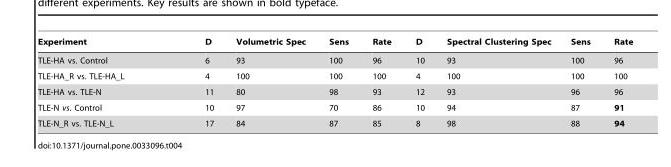table: (37, 37, 632, 127)
table column: (37, 37, 163, 127), (435, 37, 560, 127), (224, 37, 316, 127), (163, 37, 224, 127), (316, 37, 359, 127), (359, 37, 402, 127), (560, 37, 601, 127), (402, 37, 435, 127), (601, 37, 632, 127)
table column header: (37, 37, 632, 50)
table row: (37, 50, 632, 68), (37, 83, 632, 99), (37, 99, 632, 115), (37, 68, 632, 83), (37, 37, 632, 50), (37, 115, 632, 127)
